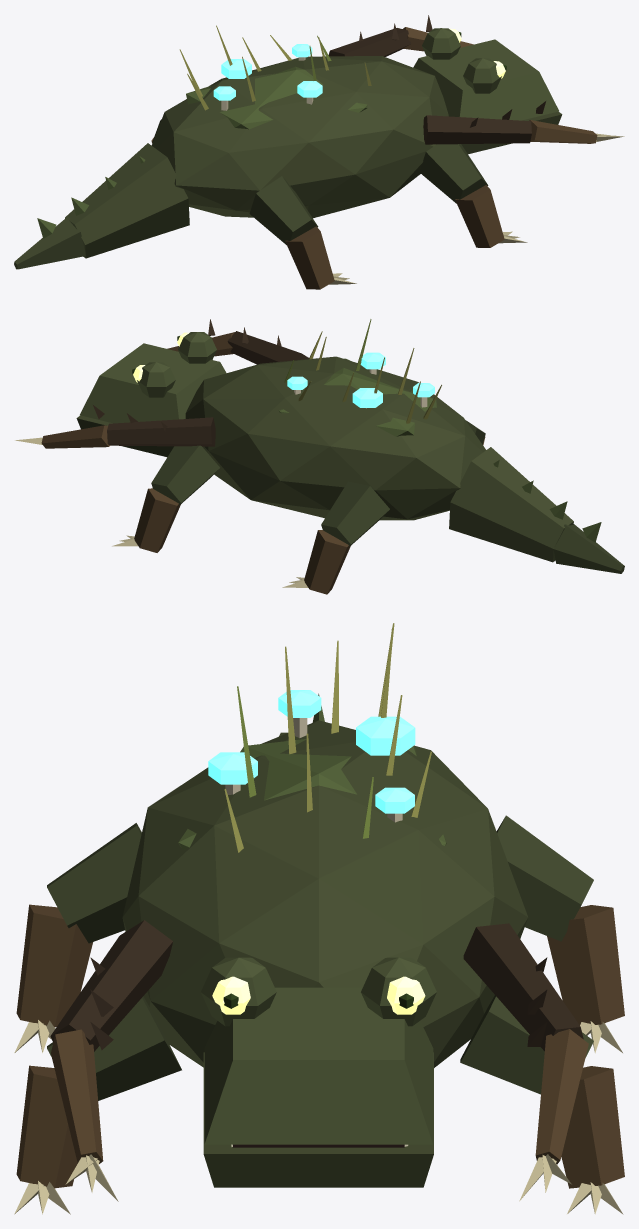
File: mire.glb
3 renders of one model, top to bottom at view 1: azimuth 30°, elevation 25°; view 2: azimuth 150°, elevation 25°; view 3: azimuth 270°, elevation 25°, orthographic. The views are drawn at different scales.
Parts seen in each view (by area): view 1: body, tail, head, leg_br, leg_fr, arm_r, arm_l, jaw; view 2: body, tail, head, leg_bl, leg_fl, arm_l, arm_r, jaw; view 3: body, head, leg_bl, leg_br, arm_r, arm_l, leg_fr, leg_fl, jaw.
Part boxes in pixels (bbox=[...]): body: bbox=[151, 25, 448, 218]; tail: bbox=[14, 143, 189, 269]; head: bbox=[413, 28, 558, 120]; leg_br: bbox=[249, 176, 356, 289]; leg_fr: bbox=[419, 144, 527, 247]; arm_r: bbox=[423, 101, 624, 144]; arm_l: bbox=[328, 15, 473, 56]; jaw: bbox=[461, 111, 562, 154]; body: bbox=[185, 319, 485, 520]; tail: bbox=[449, 447, 624, 573]; head: bbox=[80, 332, 226, 423]; leg_bl: bbox=[282, 481, 389, 594]; leg_fl: bbox=[112, 445, 219, 552]; arm_l: bbox=[15, 405, 215, 448]; arm_r: bbox=[167, 319, 308, 364]; jaw: bbox=[76, 415, 173, 457]; body: bbox=[122, 623, 528, 1067]; head: bbox=[201, 957, 436, 1146]; leg_bl: bbox=[496, 815, 624, 1053]; leg_br: bbox=[14, 823, 141, 1052]; arm_r: bbox=[50, 920, 172, 1201]; arm_l: bbox=[463, 923, 588, 1201]; leg_fr: bbox=[14, 996, 181, 1214]; leg_fl: bbox=[460, 995, 624, 1214]; jaw: bbox=[203, 1052, 433, 1187].
Size of the model in its own units: 6.41 by 2.24 by 3.21.
